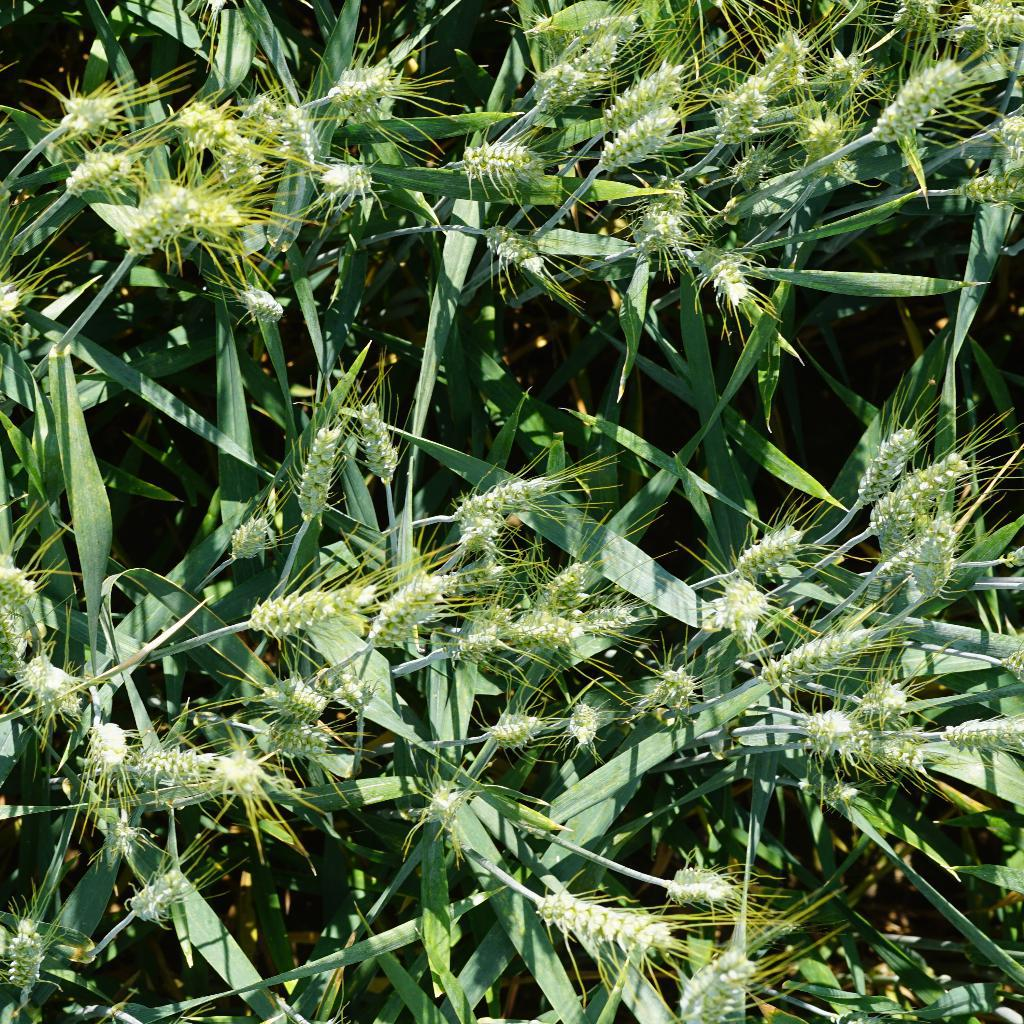0-0: (524, 882, 672, 960), (848, 456, 983, 539), (752, 627, 904, 687), (871, 48, 956, 148), (361, 561, 460, 638), (892, 523, 964, 628), (449, 459, 563, 522), (838, 421, 918, 509), (858, 527, 989, 580), (243, 709, 354, 770), (116, 189, 202, 266), (234, 579, 361, 631), (594, 59, 681, 134), (666, 956, 757, 1024), (473, 219, 563, 286), (706, 242, 783, 317), (351, 392, 408, 492), (512, 0, 586, 77), (591, 108, 681, 171), (316, 52, 413, 110), (0, 907, 58, 997), (496, 600, 579, 662), (831, 723, 933, 773), (656, 859, 752, 912), (260, 92, 325, 169), (291, 415, 339, 519), (111, 869, 205, 922), (123, 740, 236, 784), (755, 22, 822, 96), (705, 81, 777, 149), (925, 707, 1024, 756), (205, 738, 274, 808), (636, 187, 697, 266), (201, 135, 286, 191), (713, 533, 810, 582), (4, 650, 75, 716), (459, 139, 552, 189), (578, 593, 650, 657), (571, 6, 655, 58), (441, 604, 508, 665), (55, 149, 133, 201), (813, 44, 881, 101), (706, 585, 777, 639), (79, 706, 133, 774), (223, 500, 280, 564), (526, 549, 597, 600), (797, 707, 859, 765), (56, 83, 122, 137), (718, 141, 786, 193), (955, 0, 1024, 49), (531, 62, 598, 112), (475, 703, 546, 750), (325, 658, 388, 709), (799, 119, 863, 169), (950, 167, 1024, 210), (859, 676, 927, 722), (884, 0, 949, 48), (0, 530, 40, 608), (643, 661, 699, 716), (92, 811, 144, 870), (225, 281, 292, 326), (414, 779, 470, 831), (201, 189, 251, 246), (262, 681, 328, 724), (317, 157, 385, 198), (813, 772, 871, 817), (168, 92, 223, 137), (451, 514, 511, 555), (564, 699, 605, 750), (982, 118, 1024, 159)
